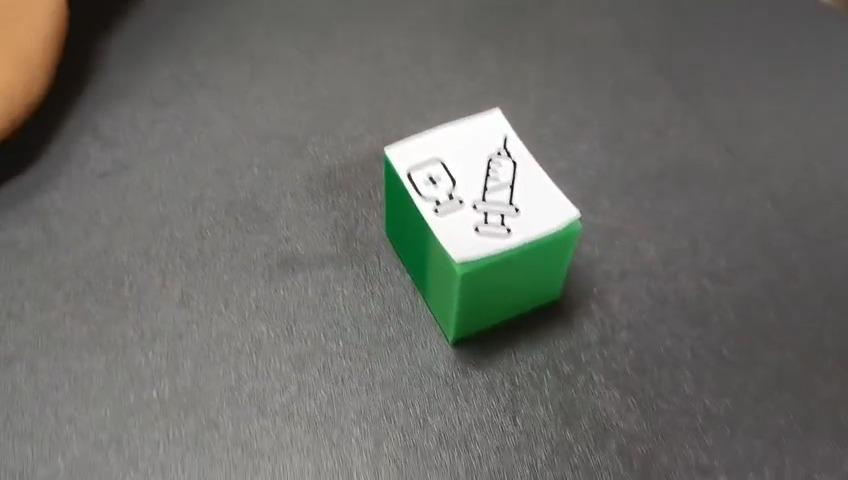antiseptic cream: (381, 105, 583, 347)
